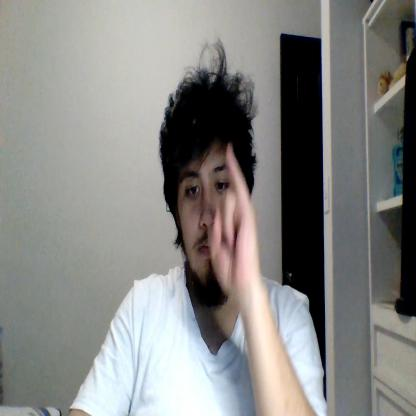I: (210, 146, 260, 289)
